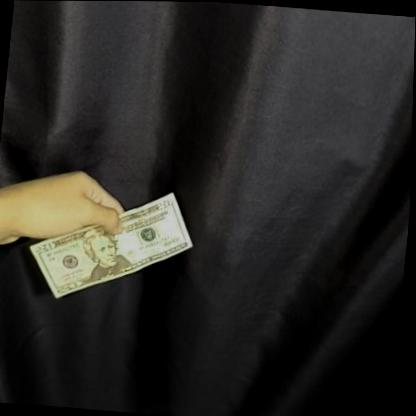twenty-front: (24, 179, 203, 311)
